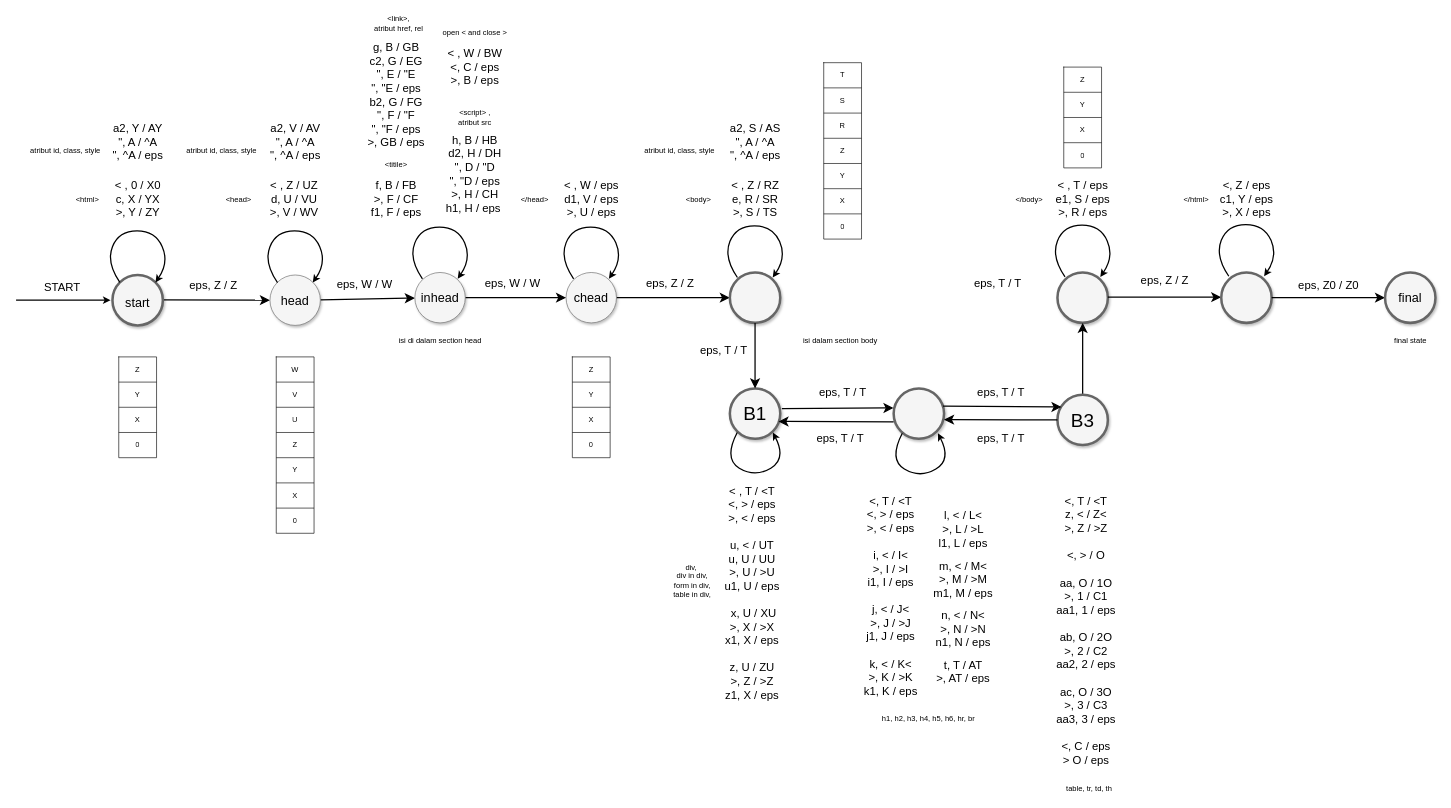
This 1451x808 diagram has some shape labels left out. Each missing label, with the centre of its shape:
"B2" goes at point (919, 414).
"body" goes at point (755, 298).
"cbody" goes at point (1083, 298).
"close" goes at point (1246, 298).
